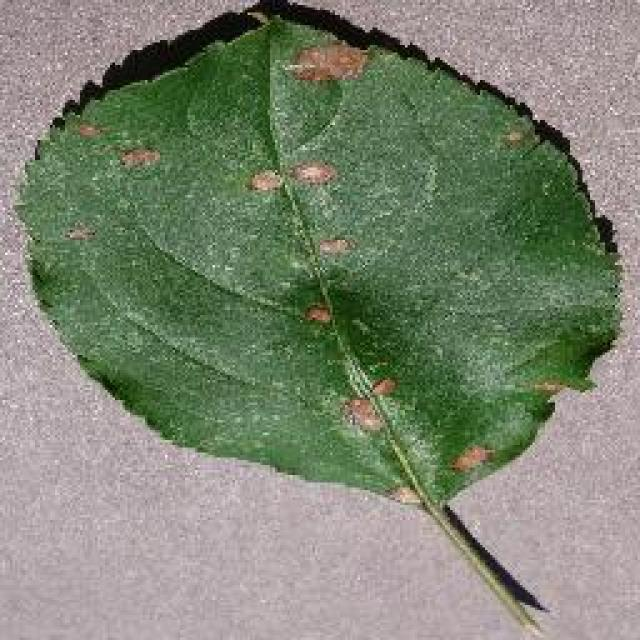Black_rot: (10, 0, 625, 638)
